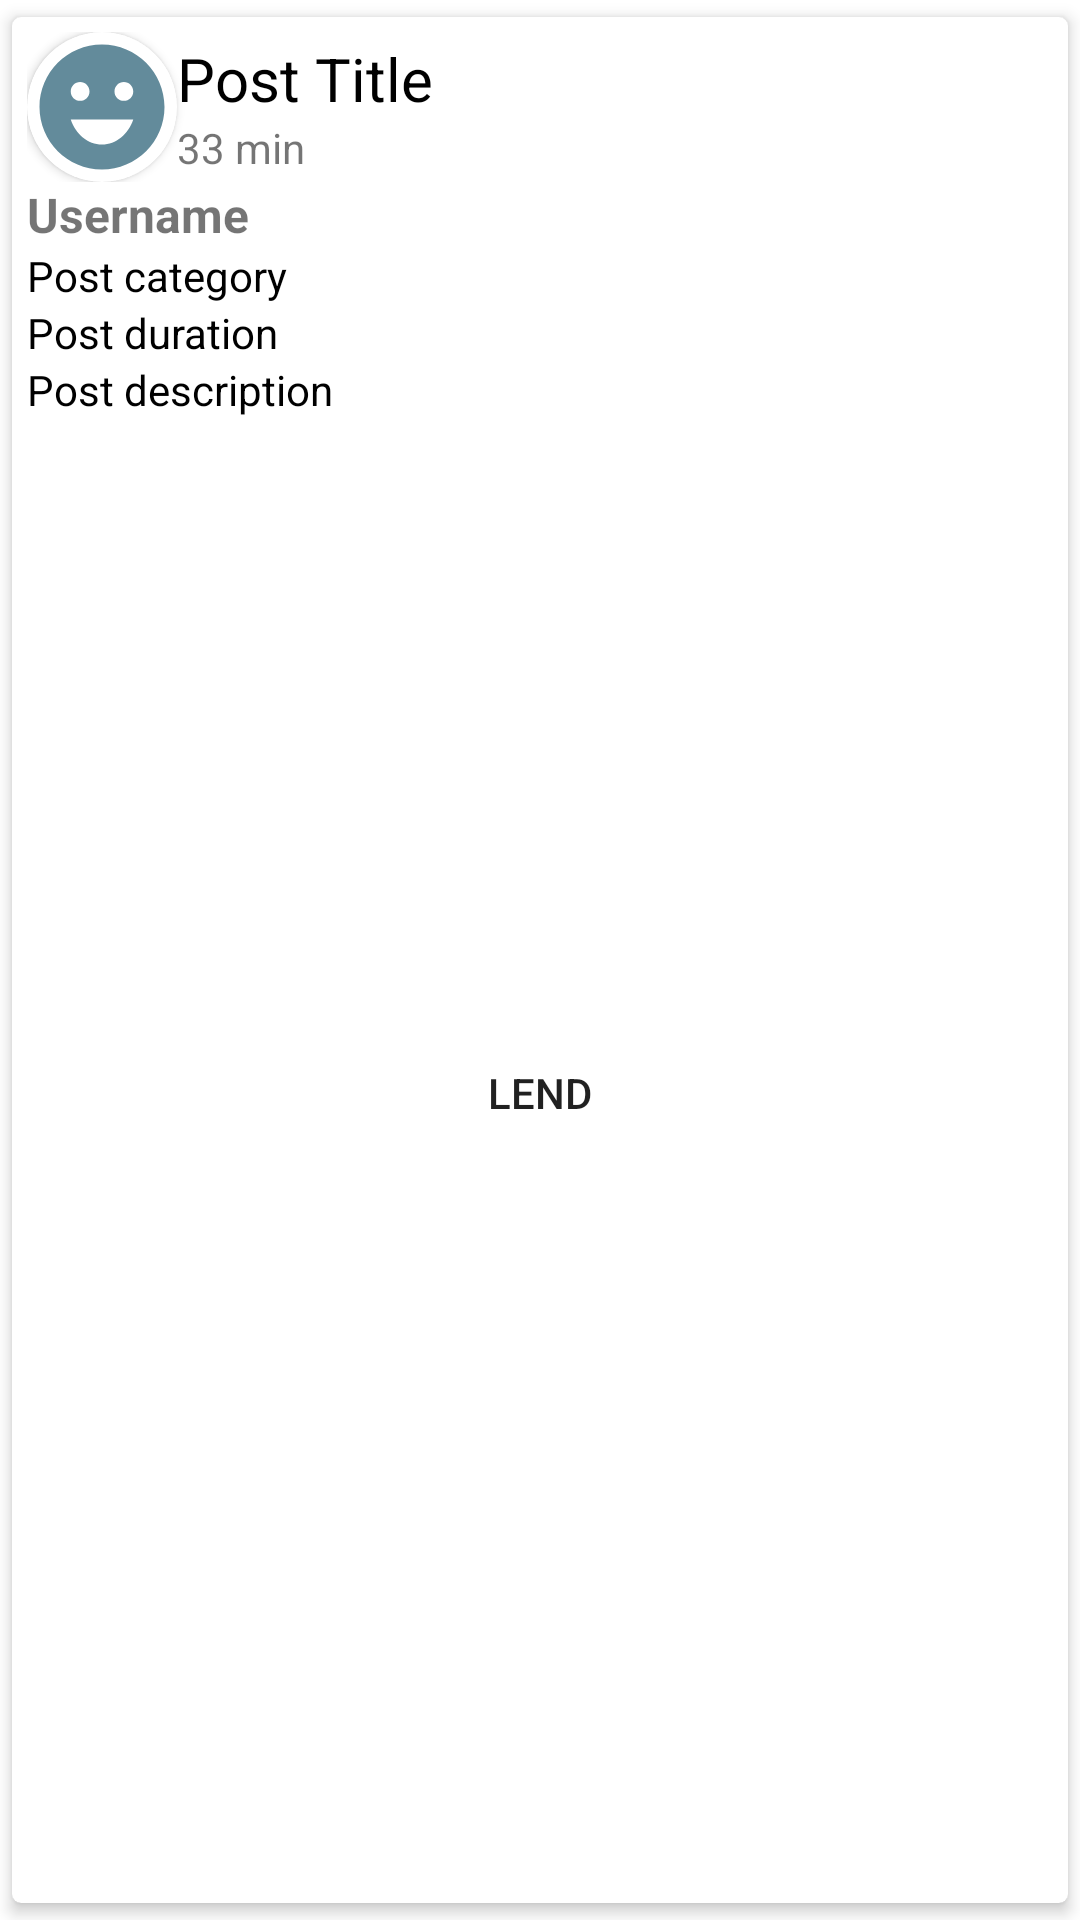

Icon bounding boxes for this 1080w x 1920h phone screenshot, format {"x1": x1, "y1": y1, "x2": x2, "y2": y2}:
emoji emotions: {"x1": 27, "y1": 34, "x2": 165, "y2": 182}
